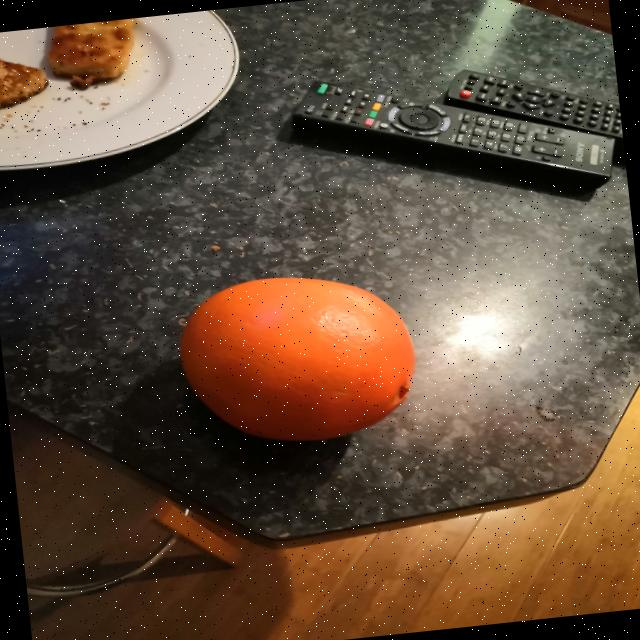orange: (180, 277, 415, 440)
